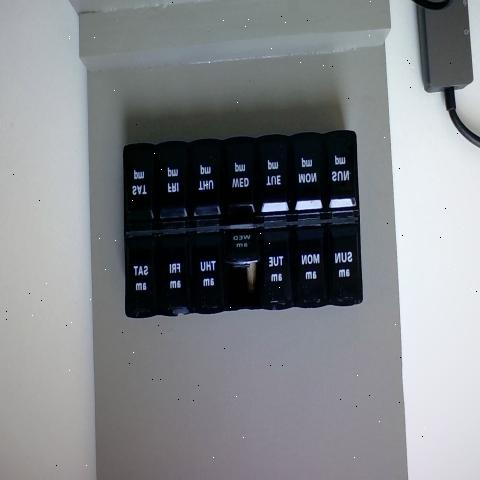FRI-am: (159, 232, 189, 314)
FRI-pm: (157, 143, 188, 227)
MON-am: (296, 223, 325, 307)
MON-pm: (292, 134, 326, 212)
Open: (227, 262, 258, 310)
PillBox: (107, 70, 371, 364)
SAT-am: (128, 227, 158, 313)
SAT-pm: (126, 147, 155, 227)
SUN-am: (328, 220, 360, 303)
SUN-pm: (329, 130, 357, 209)
THU-am: (191, 230, 224, 314)
THU-pm: (190, 142, 220, 224)
TUE-am: (262, 224, 293, 309)
TUE-pm: (260, 134, 289, 215)
WED-pm: (222, 138, 258, 223)
